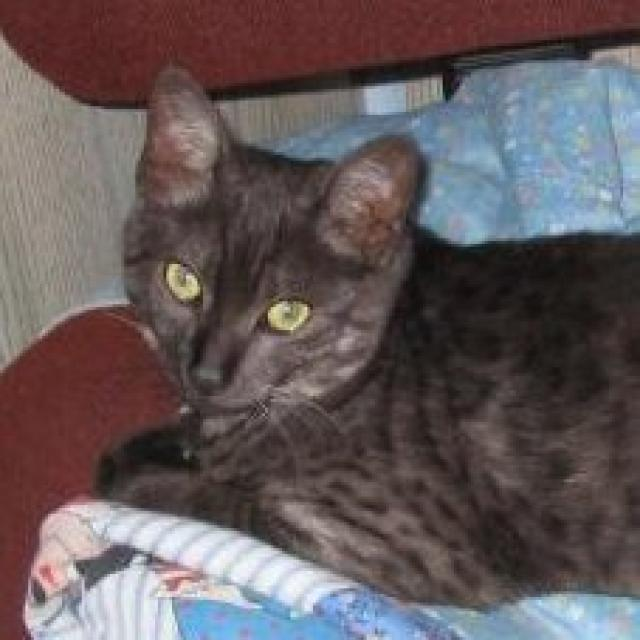Egyptian_Mau: (108, 57, 455, 431)
